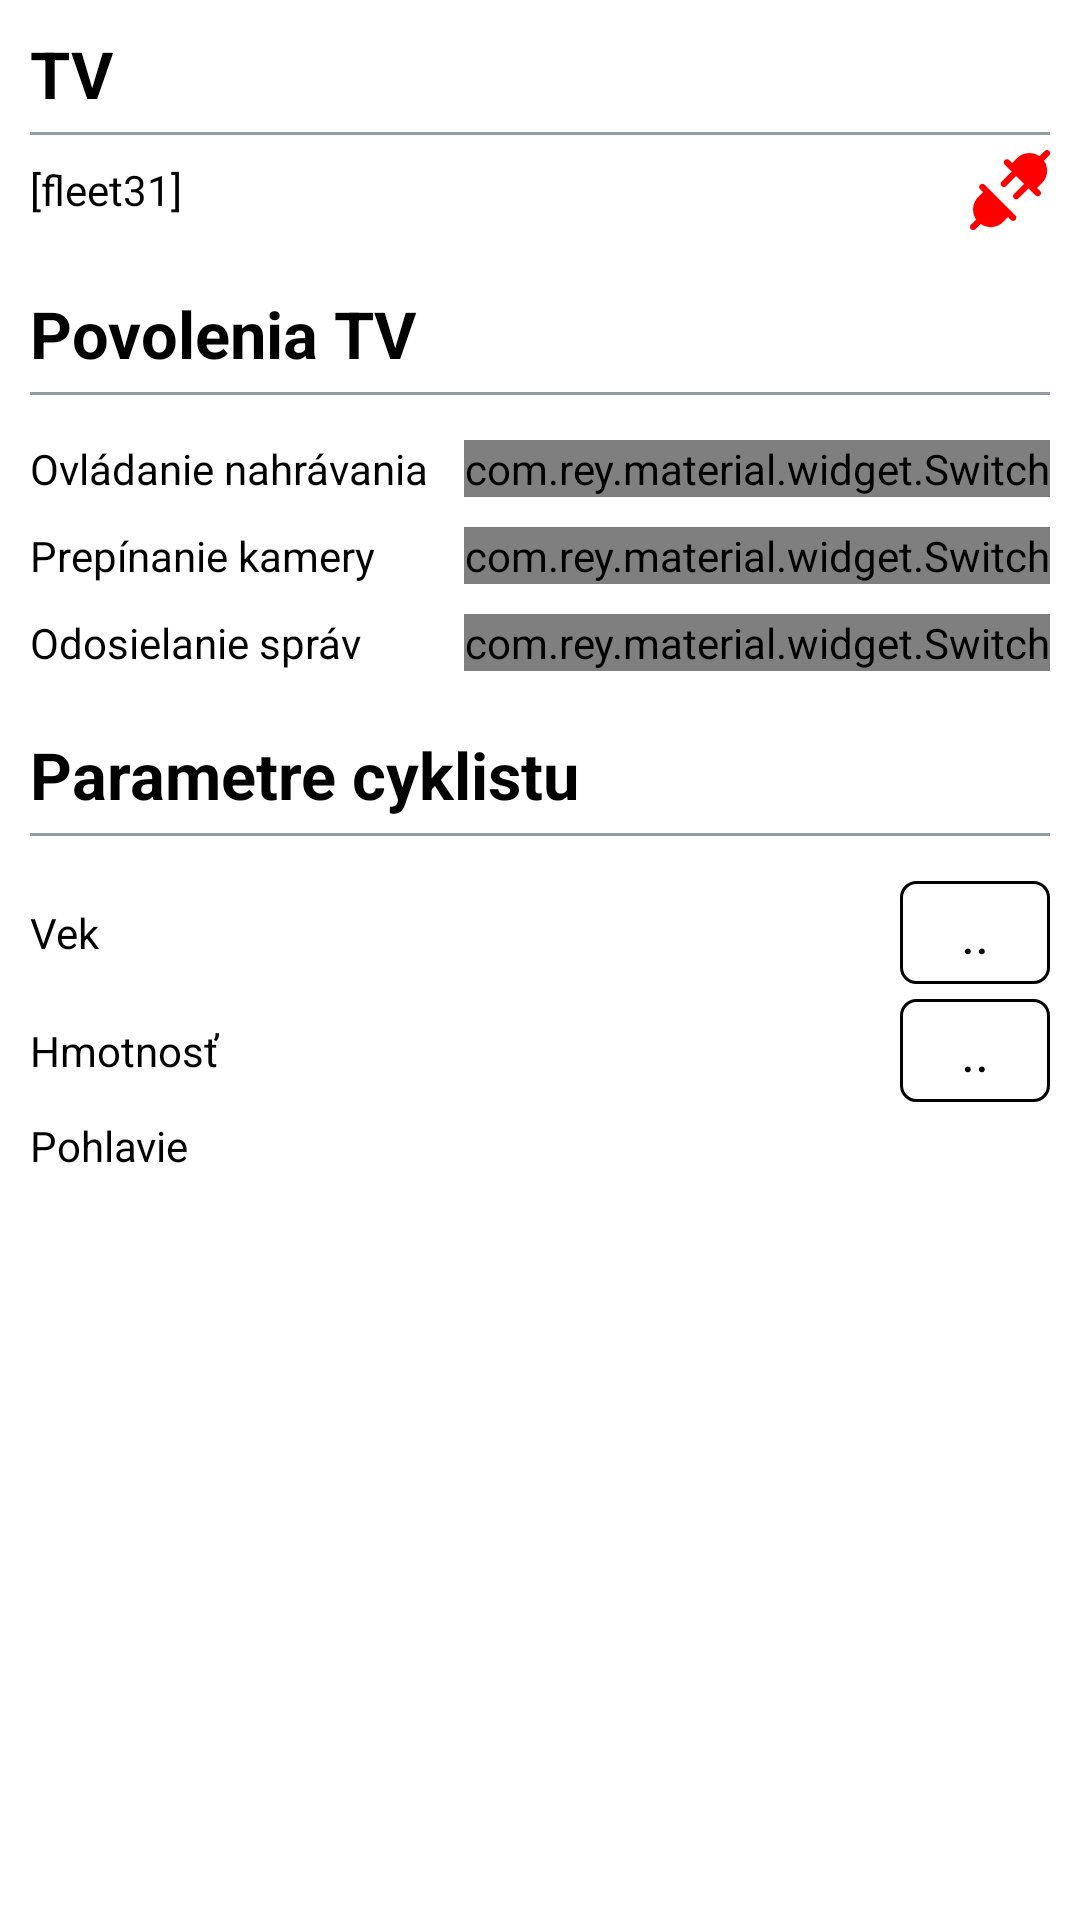

Locate icon controls on the screen. Image size 1080px×1920px, boxes as [x1=x1, y1=y1, x2=x2, y2=y2].
connection: [x1=970, y1=150, x2=1050, y2=230]
